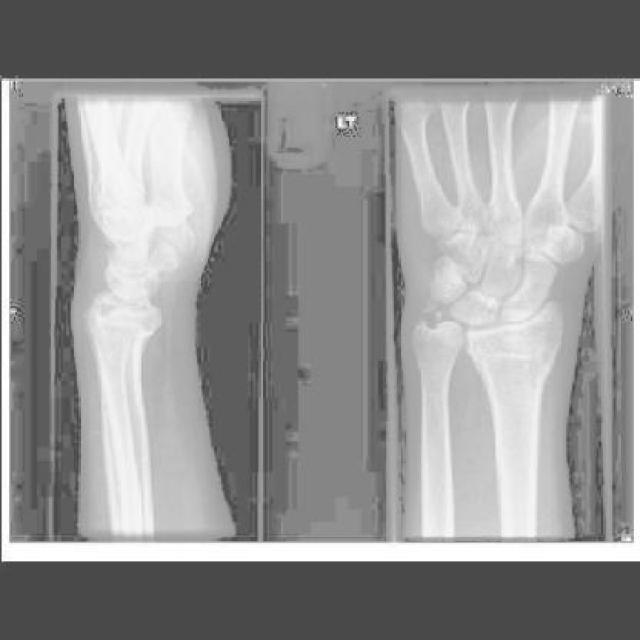Fracture: (474, 351, 559, 384), (79, 312, 153, 337), (415, 289, 440, 320)
